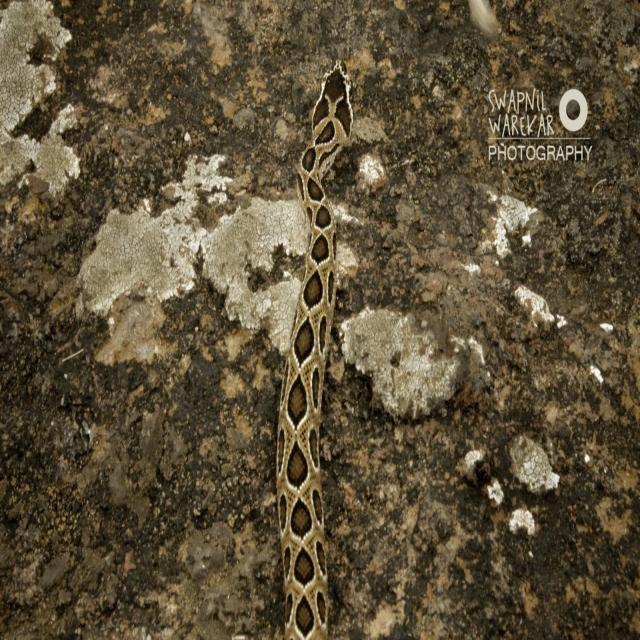Snake: (274, 59, 355, 638)
